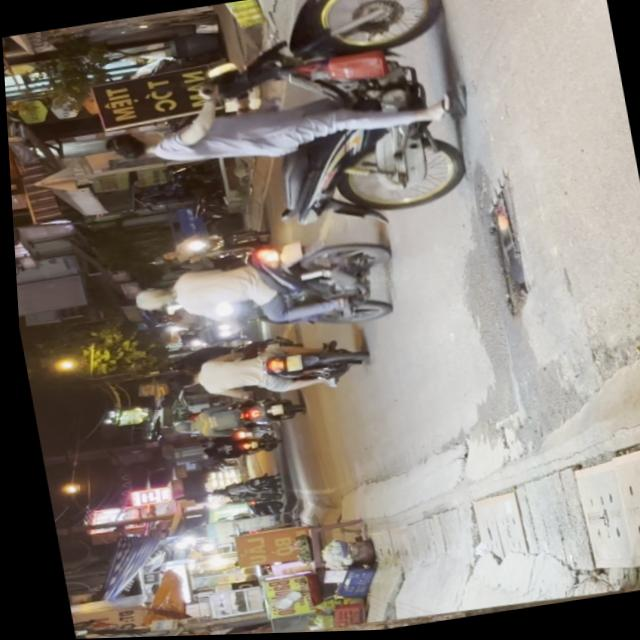licenseplate: (72, 0, 480, 264), (116, 227, 397, 356), (150, 331, 364, 413)
motorcyclist: (100, 125, 165, 163), (126, 284, 170, 313), (156, 368, 193, 392)
nohelmet: (273, 241, 299, 267), (278, 356, 297, 373)
